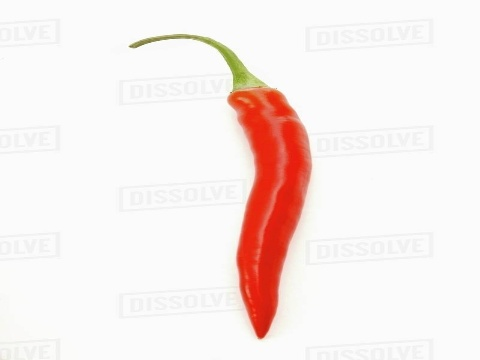Chilli: (107, 25, 364, 344)
